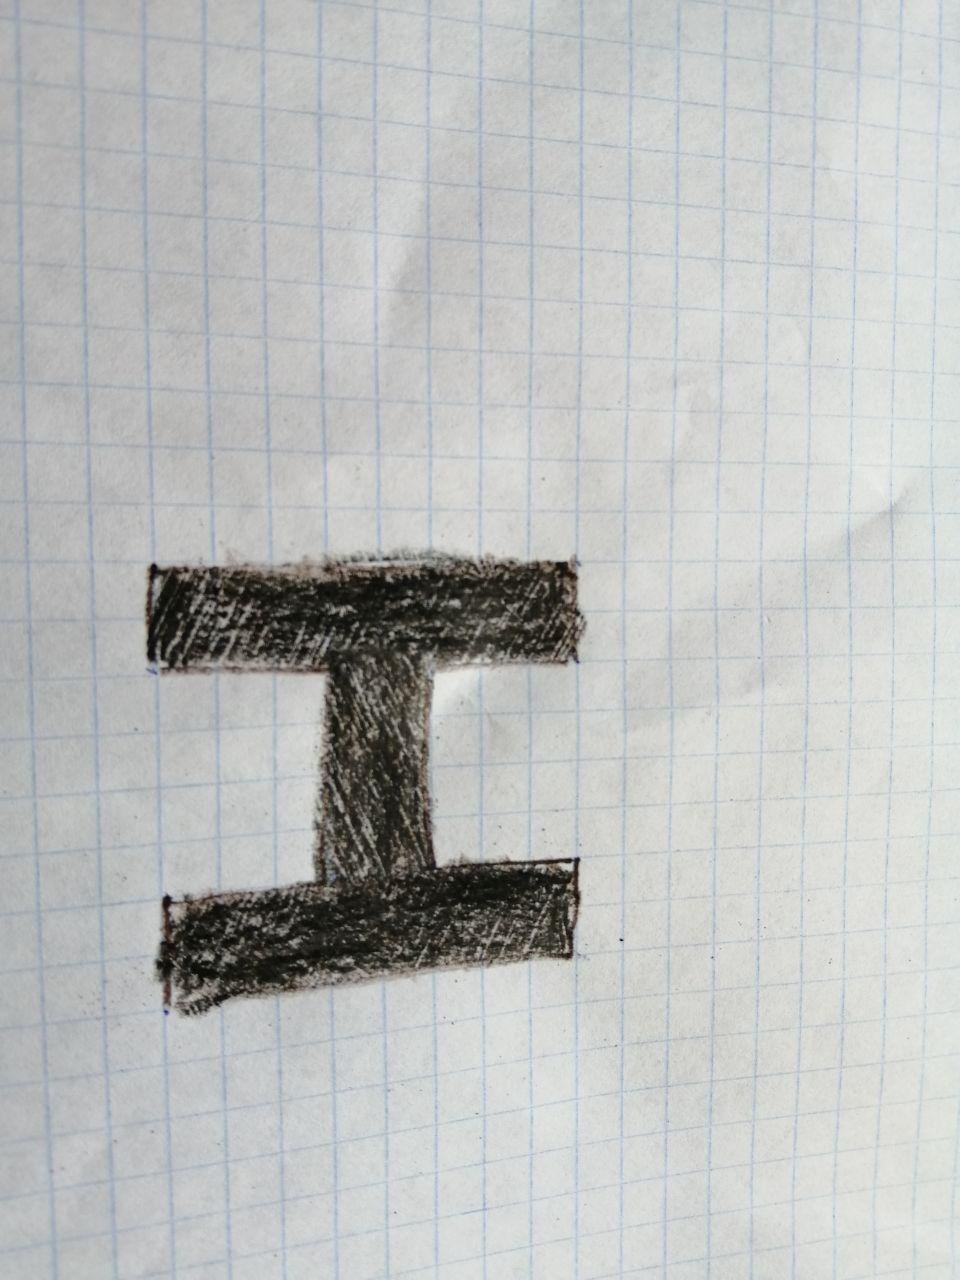h: (137, 541, 604, 1025)
